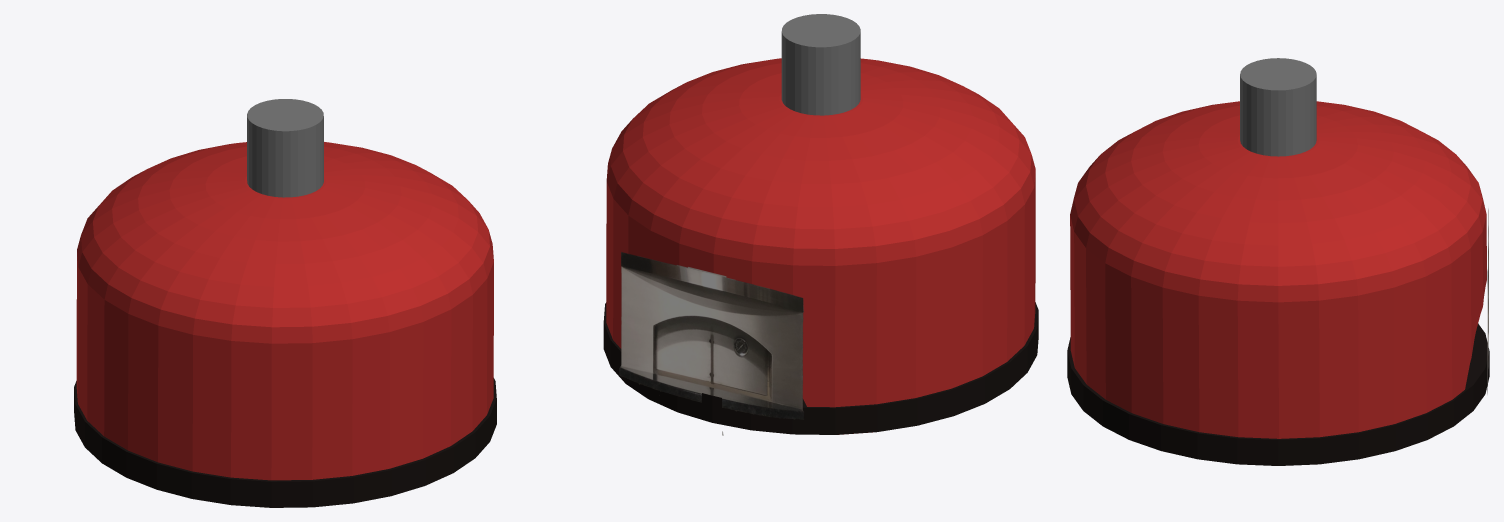
File: 24NapoliRed.glb
The picture shows the model from 3 angles, left to right: view 1: azimuth 30°, elevation 25°; view 2: azimuth 150°, elevation 25°; view 3: azimuth 270°, elevation 25°; orthographic projection. The views are drawn at different scales.
Parts seen in each view (by area): view 1: 24Napoli, Ring, Pipe; view 2: 24Napoli, BlankFacePlateWDoor, Ring, Pipe; view 3: 24Napoli, Ring, Pipe.
Part boxes in pixels (bbox=[...]): 24Napoli: bbox=[76, 142, 493, 480]; Ring: bbox=[74, 378, 496, 507]; Pipe: bbox=[247, 99, 323, 197]; 24Napoli: bbox=[606, 58, 1035, 434]; BlankFacePlateWDoor: bbox=[619, 252, 803, 435]; Ring: bbox=[603, 302, 1038, 434]; Pipe: bbox=[781, 14, 860, 115]; 24Napoli: bbox=[1070, 101, 1486, 438]; Ring: bbox=[1067, 323, 1489, 465]; Pipe: bbox=[1240, 58, 1316, 156].
Bounding box in the file's own units: 2.24 × 2.02 × 2.24.
Materials: 5 (1 with a texture image).
